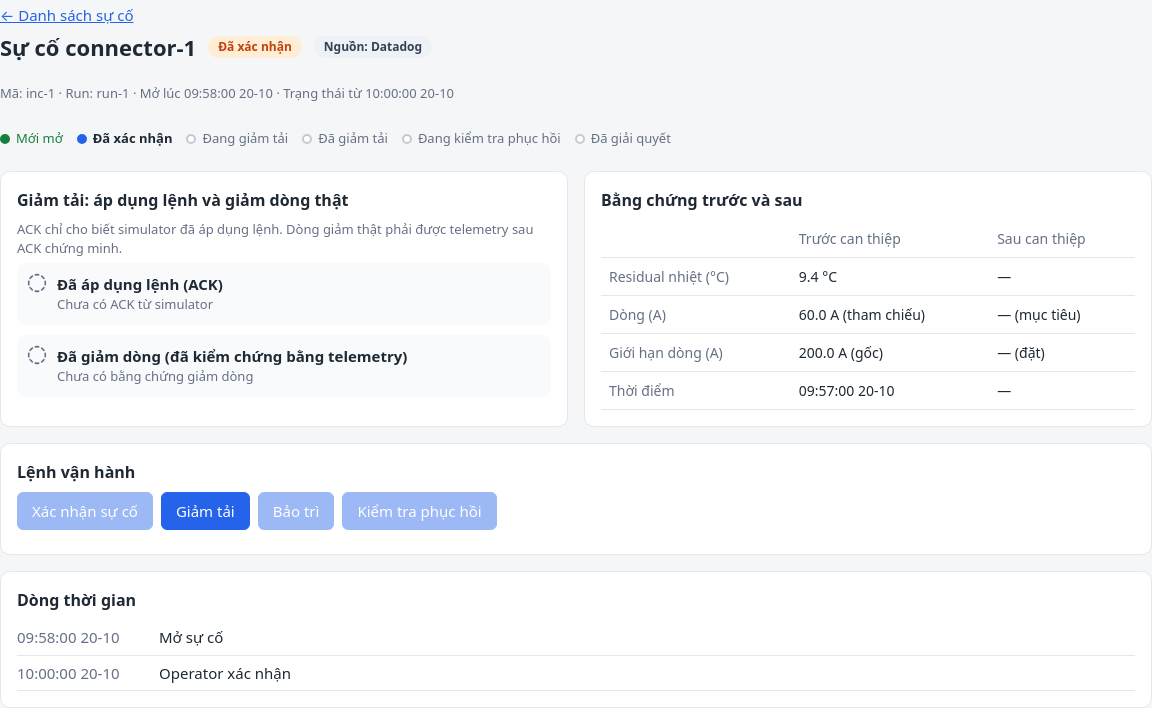
incident screen › sends Idempotency-Key with credentials when an operator clicks a command
Check: the button "Bảo trì" is disabled, box [258,492,334,530]
Click the button "Giảm tải".
click(205, 511)  # box [161,492,250,530]
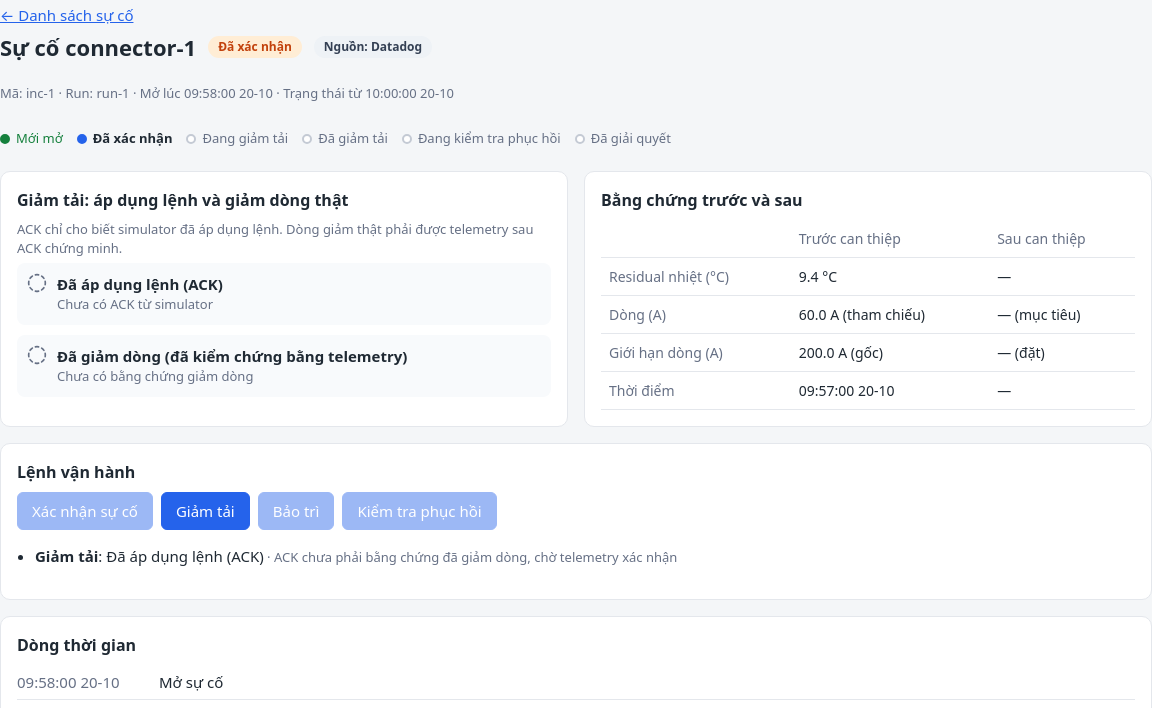
Check: the list item with test id "tracked-command" shows "Đã áp dụng lệnh (ACK)", box [106,546,264,566]
Check: the list item with test id "tracked-command" shows "ACK chưa phải bằng chứng đã giảm dòng", box [264,548,677,566]
